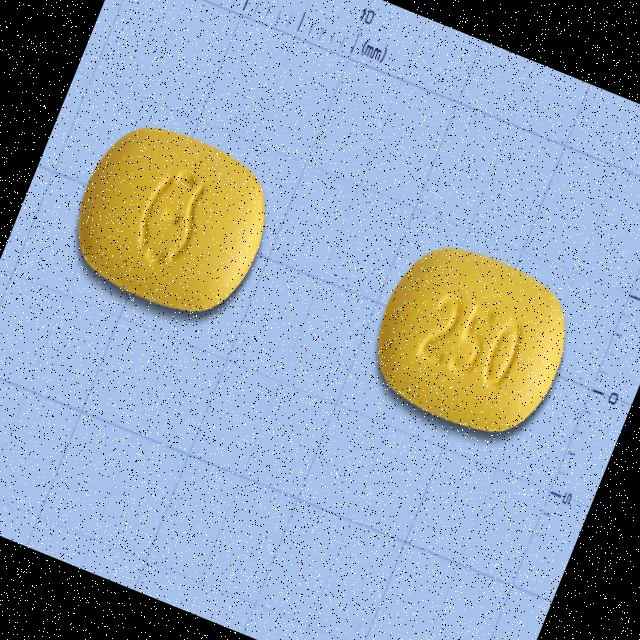Clarione -500mg: (50, 101, 294, 342), (350, 222, 593, 459)
